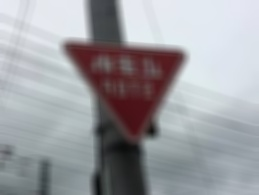Regulatory_sign_triangle: (62, 37, 199, 141)
